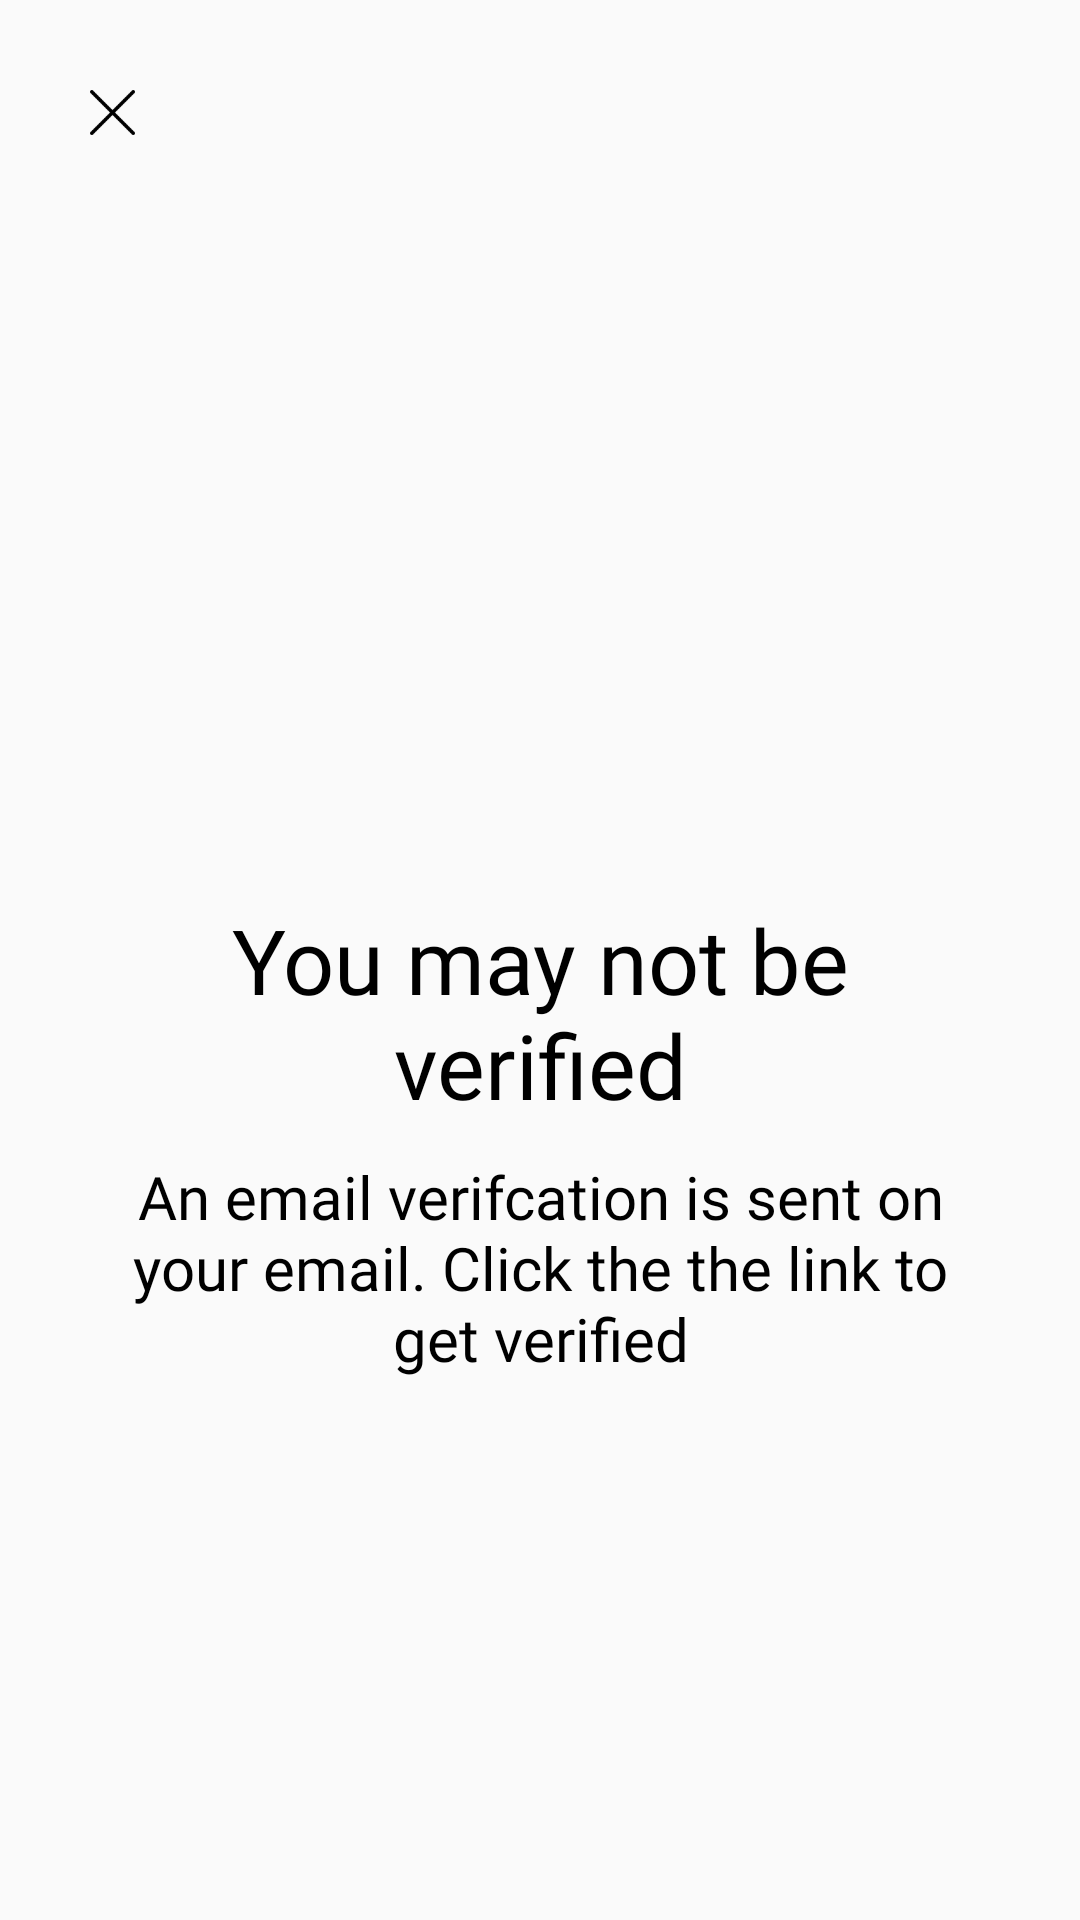

Named icons in this screenshot (1080×1920) and their centers, [x,y]:
cancel: [112,112]
